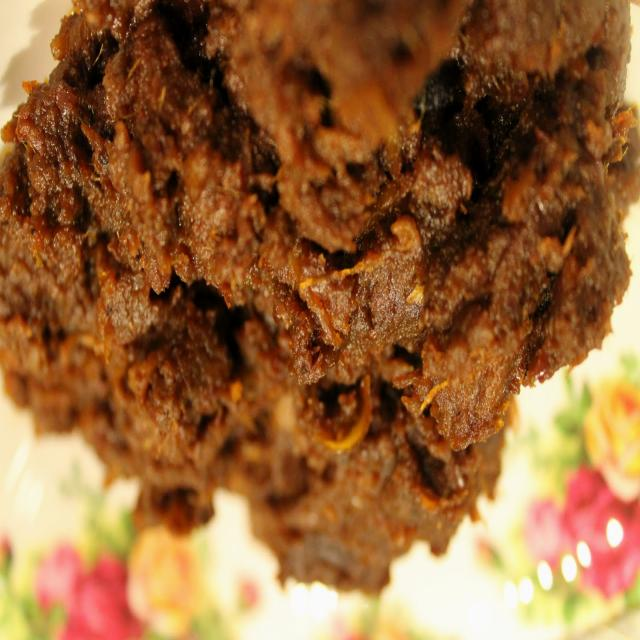rendang: (0, 0, 640, 596)
